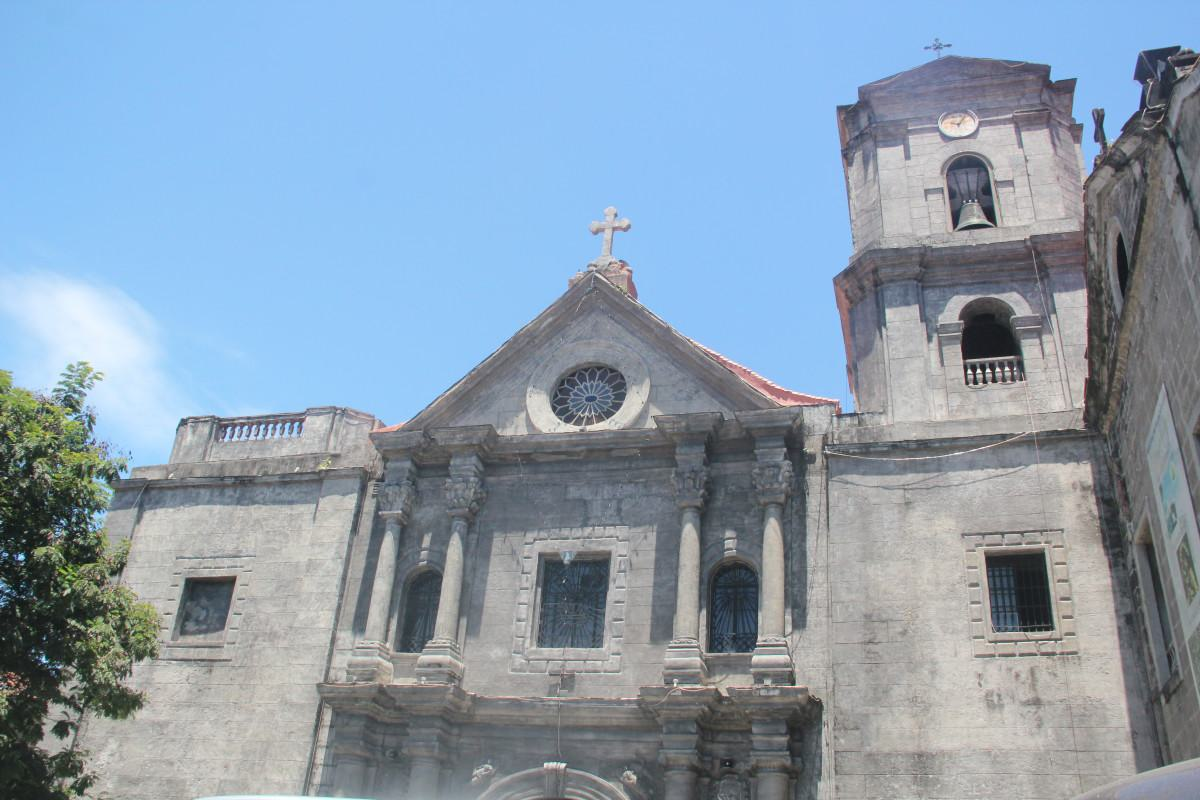San Agustin Church: (324, 28, 1130, 799)
